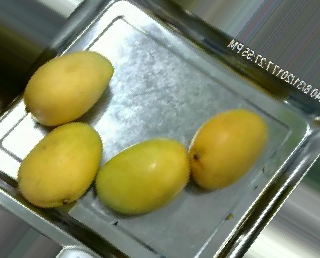Mango: (95, 131, 196, 219), (13, 117, 104, 210), (24, 46, 112, 134), (186, 103, 270, 194)
